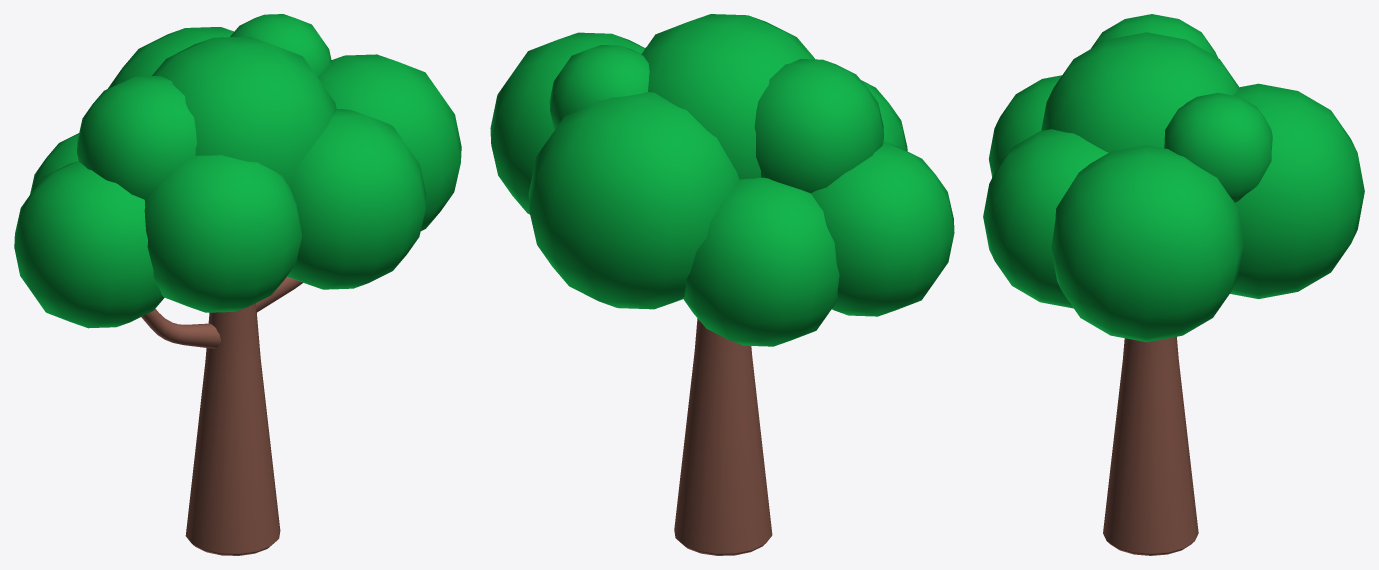
The model's file is Town_10_Tree_1.glb.
The picture shows the model from 3 angles, left to right: view 1: azimuth 30°, elevation 25°; view 2: azimuth 150°, elevation 25°; view 3: azimuth 270°, elevation 25°; orthographic projection. The views are drawn at different scales.
Visible parts, largest first — view 1: Town_10_Tree_1; view 2: Town_10_Tree_1; view 3: Town_10_Tree_1.
Part boxes in pixels (<box>): Town_10_Tree_1: <box>14,14,461,555</box>; Town_10_Tree_1: <box>490,14,954,555</box>; Town_10_Tree_1: <box>983,14,1364,555</box>.
Size of the model in its own units: 11.35 by 12.67 by 8.88.
Materials: 1 (1 with a texture image).
